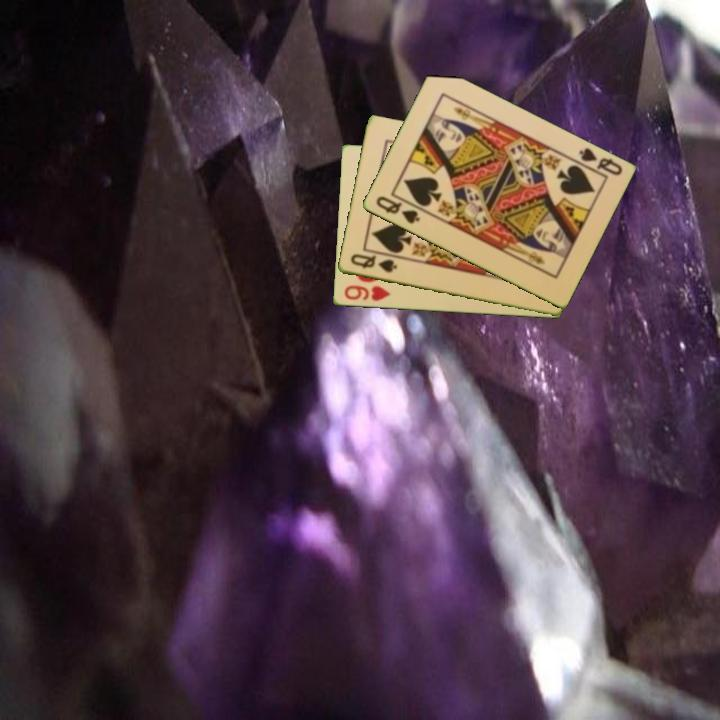9h: (341, 282, 392, 304)
Qs: (372, 192, 422, 227), (575, 144, 625, 179), (347, 251, 400, 276)
